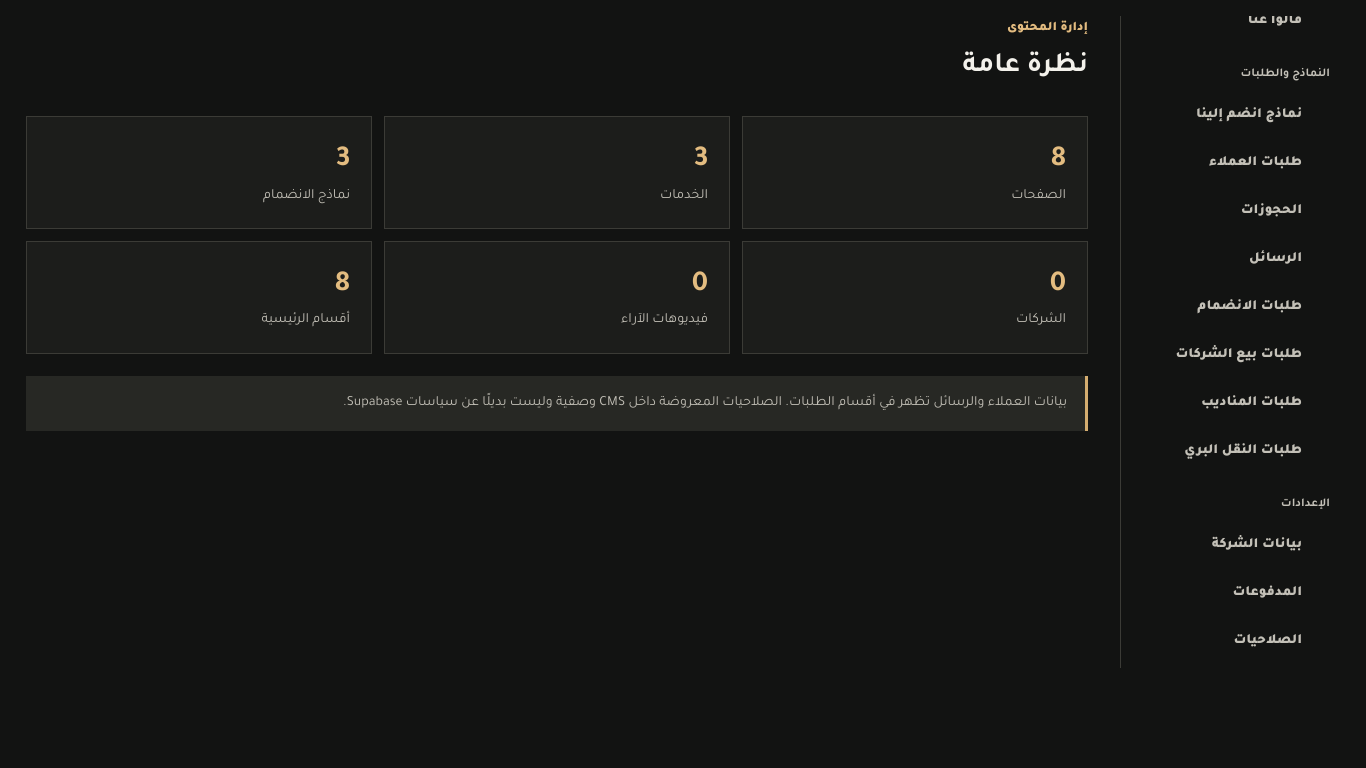
Test: form submissions in the dashboard › shows road transport requests and all specifications in their own section
The width and height of the screenshot is (1366, 768).
(page scrolled)
Click the button "طلبات النقل البري".
click(1239, 451)  # box top-left (1138, 429), bottom-right (1340, 473)
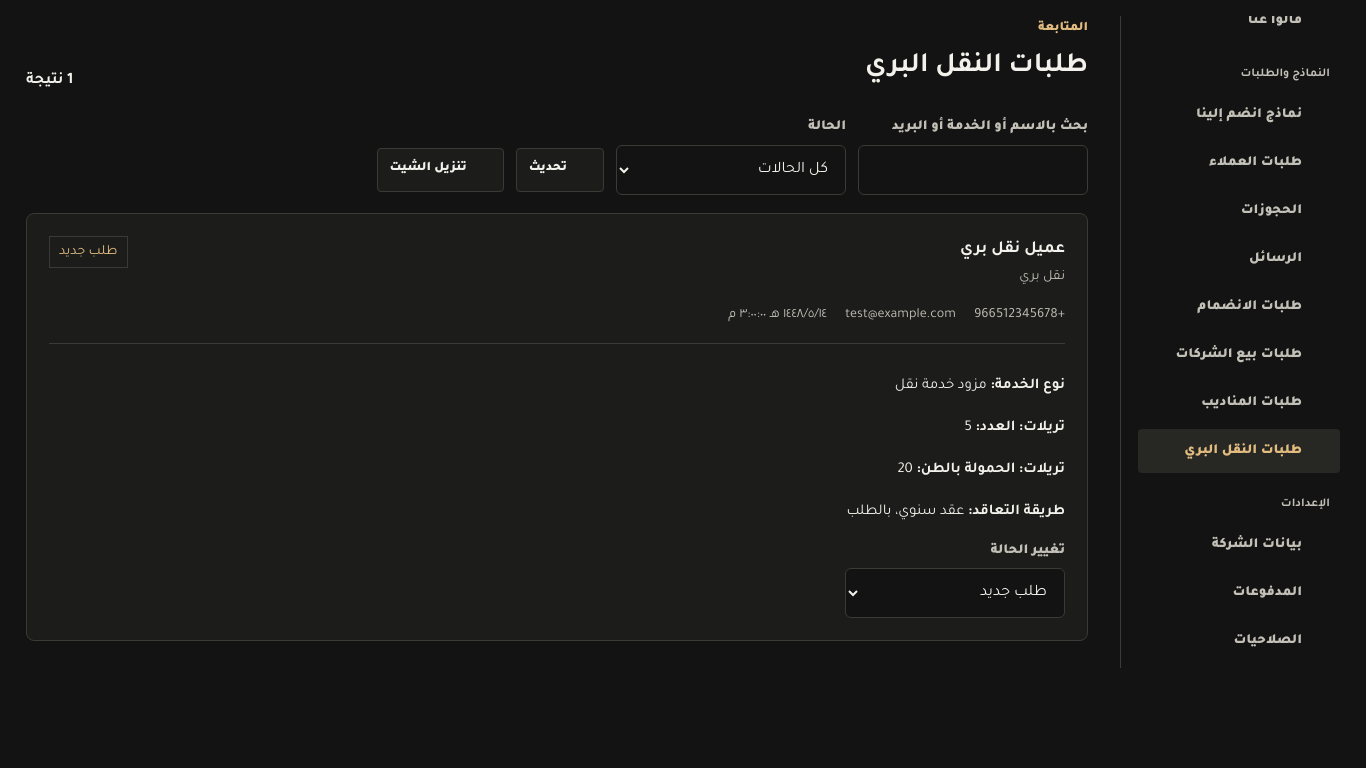
expect the text "نقل بري" is shown: met, box top-left (1019, 270), bottom-right (1065, 284)
expect the text "مزود خدمة نقل" is shown: met, box top-left (895, 378), bottom-right (987, 392)
expect the text "عقد سنوي، بالطلب" is shown: met, box top-left (846, 504), bottom-right (964, 518)
Click the button "طلبات الانضمام".
click(1239, 307)  # box top-left (1138, 285), bottom-right (1340, 329)
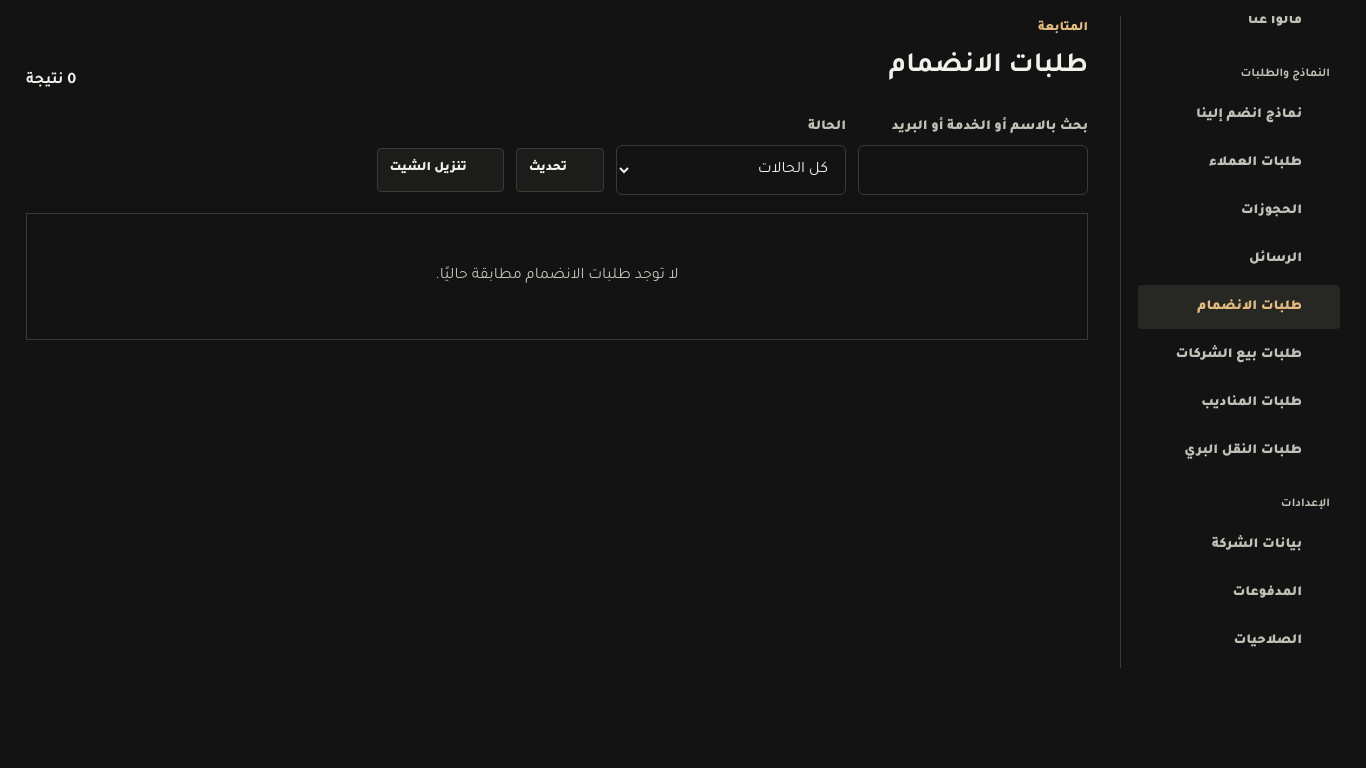
expect the text "لا توجد طلبات الانضمام مطابقة حاليًا." is shown: met, box top-left (26, 213), bottom-right (1088, 340)
